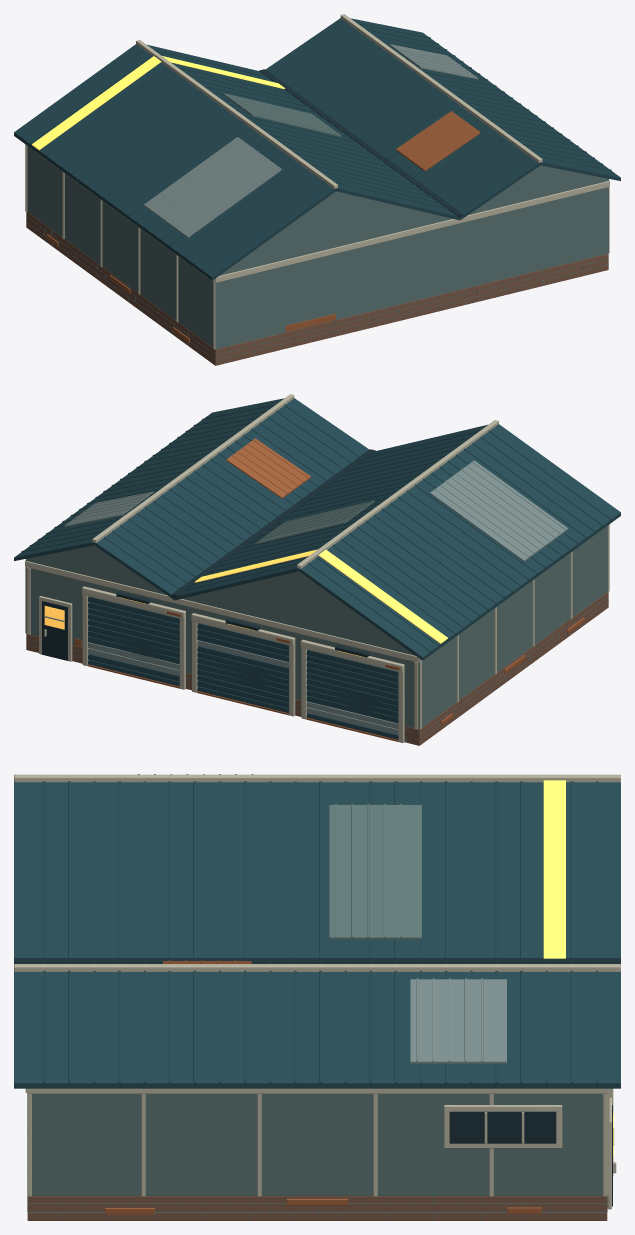
File: d08_workshop_buildings_03.glb
3 renders of one model, top to bottom at view 1: azimuth 30°, elevation 25°; view 2: azimuth 150°, elevation 25°; view 3: azimuth 270°, elevation 25°, orthographic. The views are drawn at different scales.
Visible parts, largest first — view 1: D08WorkshopBuildings03_Mesh; view 2: D08WorkshopBuildings03_Mesh; view 3: D08WorkshopBuildings03_Mesh.
Boxes of the visible parts, left/top/right/bottom form: D08WorkshopBuildings03_Mesh: left=14, top=14, right=620, bottom=365; D08WorkshopBuildings03_Mesh: left=14, top=394, right=620, bottom=745; D08WorkshopBuildings03_Mesh: left=14, top=774, right=620, bottom=1220.
Bounding box in the file's own units: 18.7 × 6.8 × 15.7.
